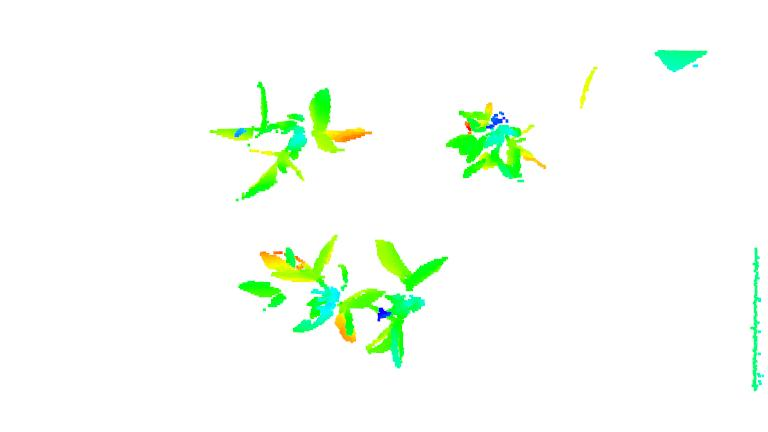mungbean: (208, 79, 377, 206), (236, 230, 364, 344), (356, 235, 451, 370), (444, 99, 547, 187)
